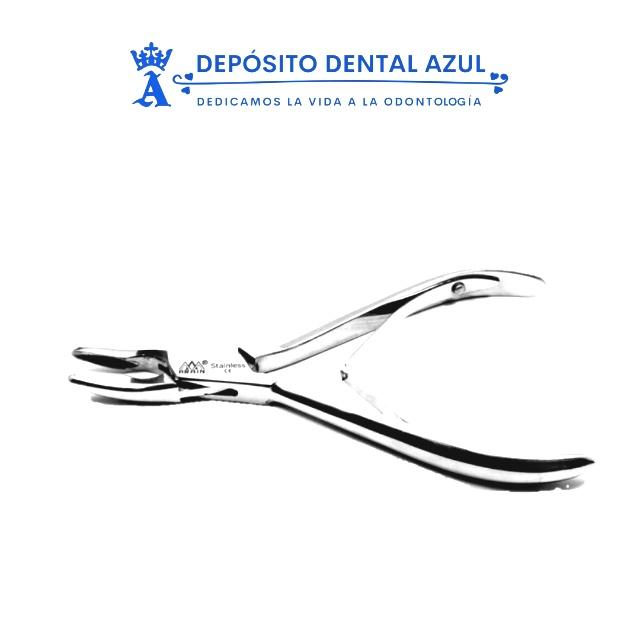gubia: (69, 270, 597, 491)
